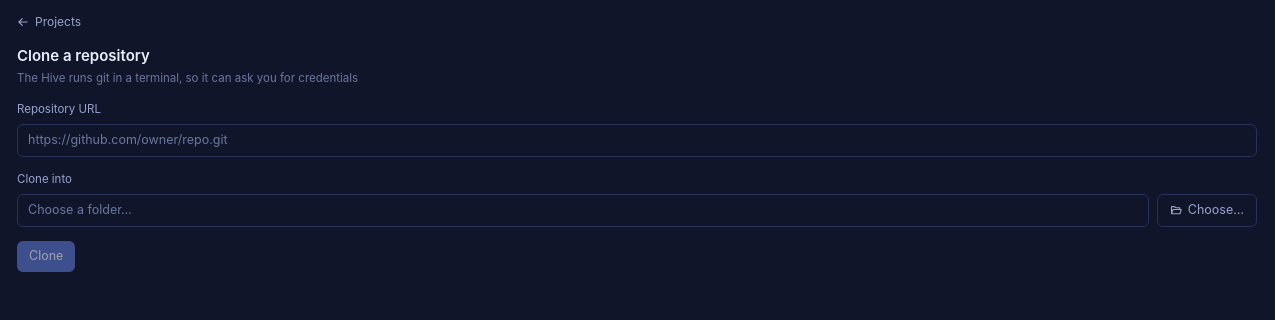
Test: CloneRepoView › disables Clone until both a URL and a folder are present
Check: the button "Clone" is disabled, box [17, 241, 75, 272]
Type "https://github.com/behiques/the-hive.git" into the field labelled "Repository URL" at x=637, y=140, box [17, 124, 1257, 157]
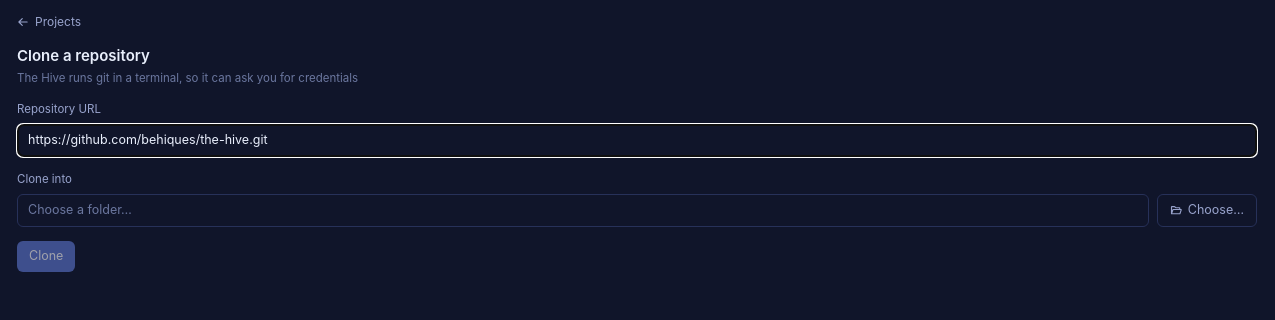
Check: the button "Clone" is disabled, box [17, 241, 75, 272]
Click the button "Choose…" at x=1207, y=210, box [1157, 194, 1257, 227]
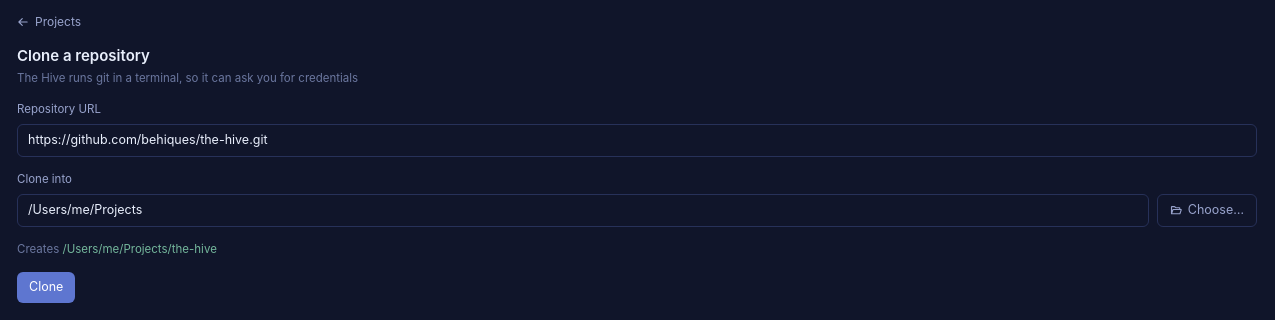
Check: the button "Clone" is enabled, box [17, 272, 75, 303]
